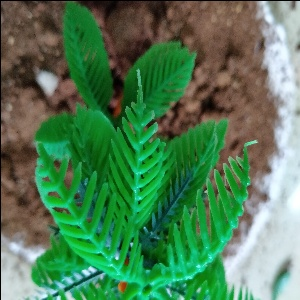plant: (26, 10, 271, 300)
